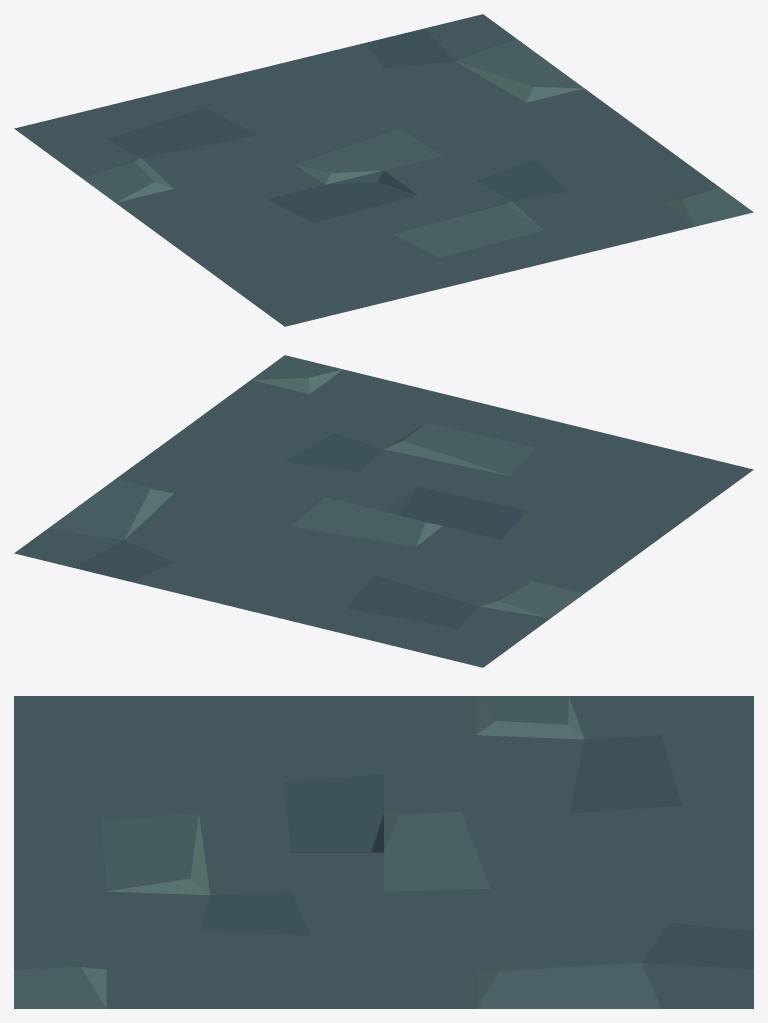
Rendered from wall_4m_top.fbx.
3 views of the same model, one above another, from view 1: azimuth 30°, elevation 25°; view 2: azimuth 150°, elevation 25°; view 3: azimuth 270°, elevation 25° (orthographic). The views are drawn at different scales.
Parts seen in each view (by area): view 1: wall_4m_top; view 2: wall_4m_top; view 3: wall_4m_top.
Boxes of the visible parts, box(x1,y1,x2,y2) form: wall_4m_top: box(14, 14, 753, 326); wall_4m_top: box(14, 355, 753, 667); wall_4m_top: box(14, 696, 753, 1008).
Bounding box in the file's own units: 400 × 10.07 × 400.
